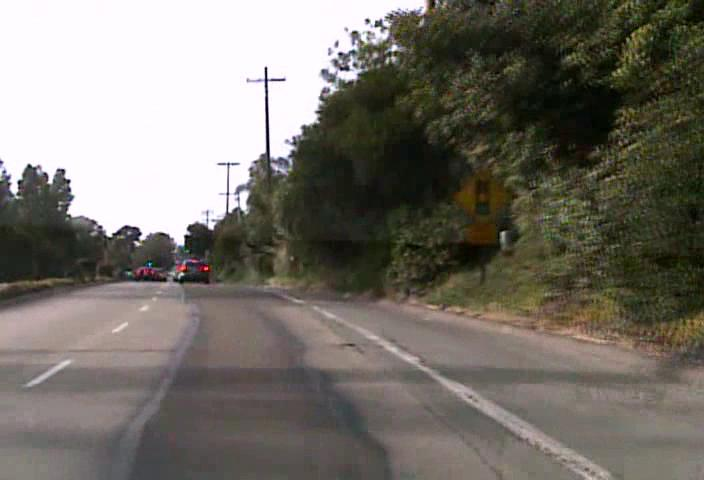signalAhead: (452, 167, 511, 226)
